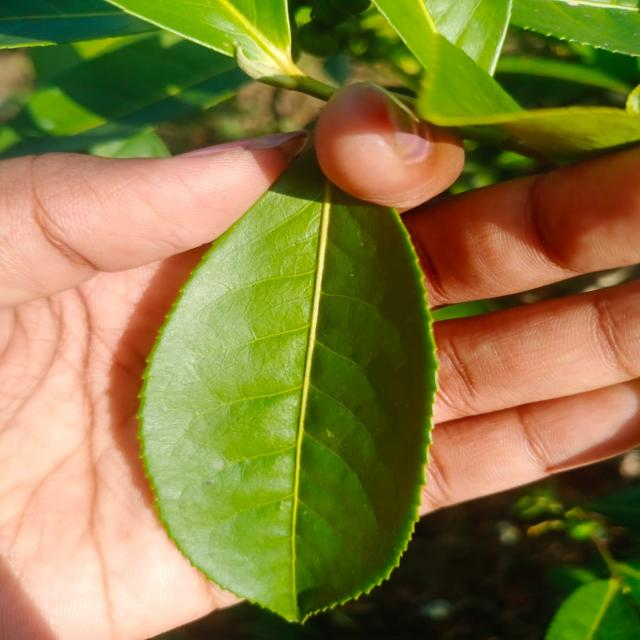Category D 7+ days, Not for Tea: (135, 161, 497, 628)
